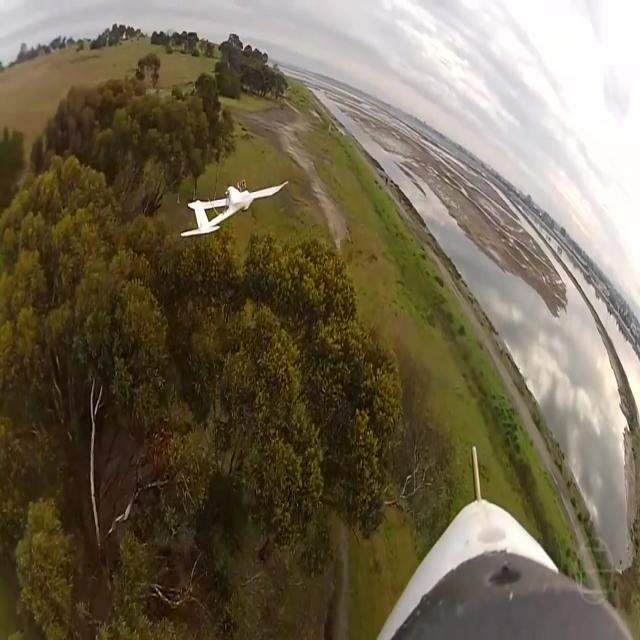iha: (212, 180, 256, 238)
